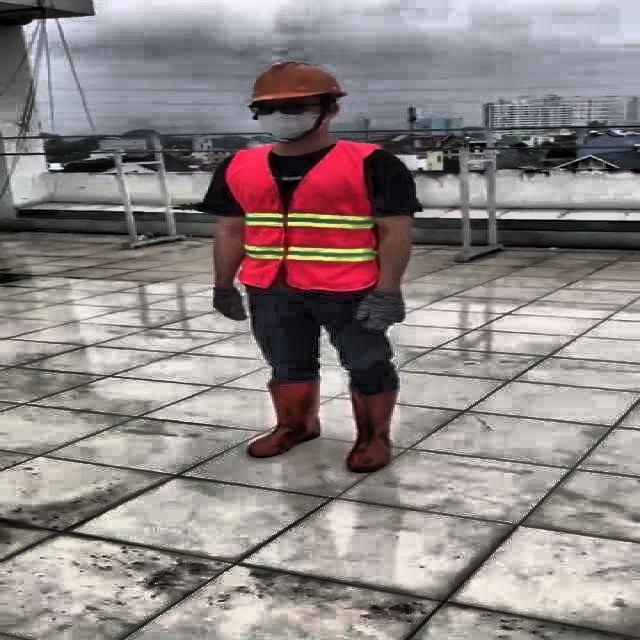safety_helmet: (238, 58, 354, 105)
safety_jacket: (224, 138, 380, 290)
